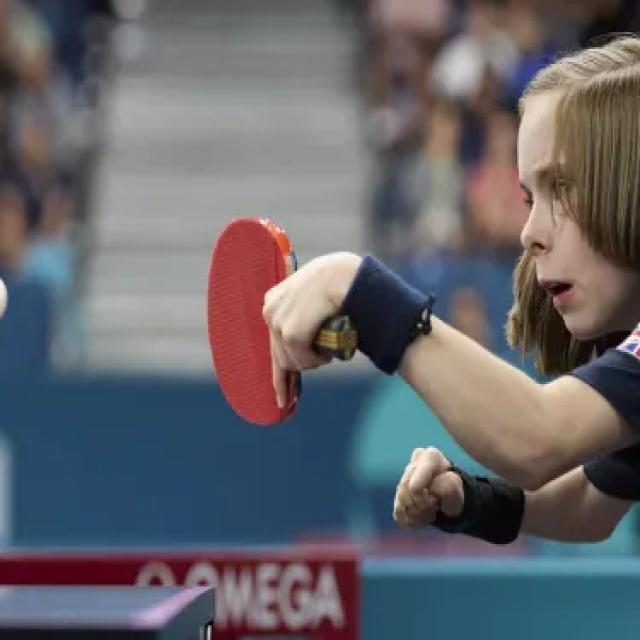TT Racket: (202, 201, 308, 437)
TT Table: (2, 582, 219, 638)
